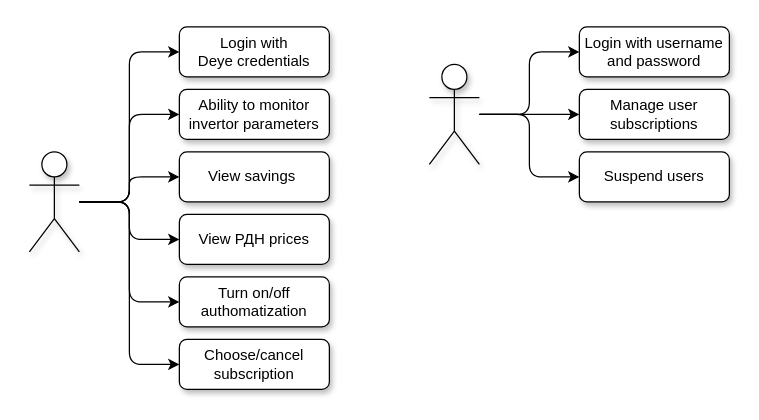
Image size: 759x420. Some labels were removed from this diagram. Each missing label, with the centre of its shape:
Administrator: [455,115]
Customer: [55,203]
